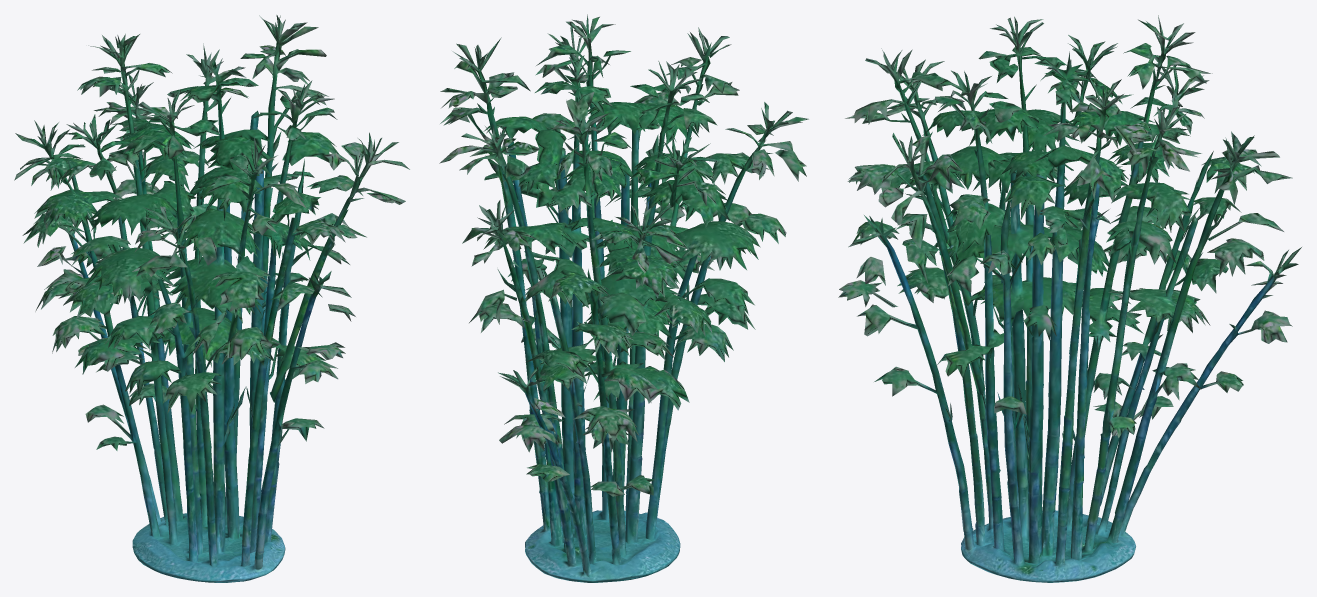
File: bamboo.glb
3 views of the same model, side by side, from view 1: azimuth 30°, elevation 25°; view 2: azimuth 150°, elevation 25°; view 3: azimuth 270°, elevation 25° (orthographic). The views are drawn at different scales.
Visible parts, largest first — view 1: tripo_node_5b4bbdb5-0e2f-4140-9c3e-ec4384440684; view 2: tripo_node_5b4bbdb5-0e2f-4140-9c3e-ec4384440684; view 3: tripo_node_5b4bbdb5-0e2f-4140-9c3e-ec4384440684.
Boxes of the visible parts, x1=… form: tripo_node_5b4bbdb5-0e2f-4140-9c3e-ec4384440684: x1=14, y1=15, x2=409, y2=582; tripo_node_5b4bbdb5-0e2f-4140-9c3e-ec4384440684: x1=439, y1=14, x2=808, y2=582; tripo_node_5b4bbdb5-0e2f-4140-9c3e-ec4384440684: x1=838, y1=15, x2=1301, y2=582.
Bounding box in the file's own units: 0.5839 × 1 × 0.8078.
1 material, 1 textured.
